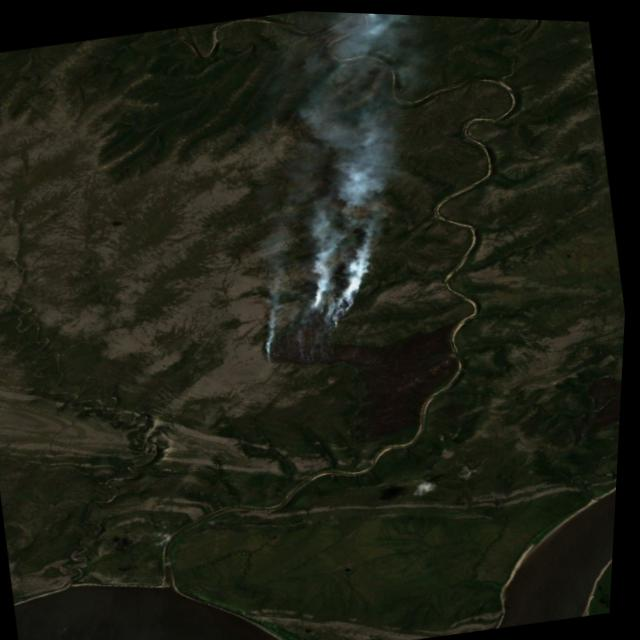fire: (250, 274, 377, 370)
